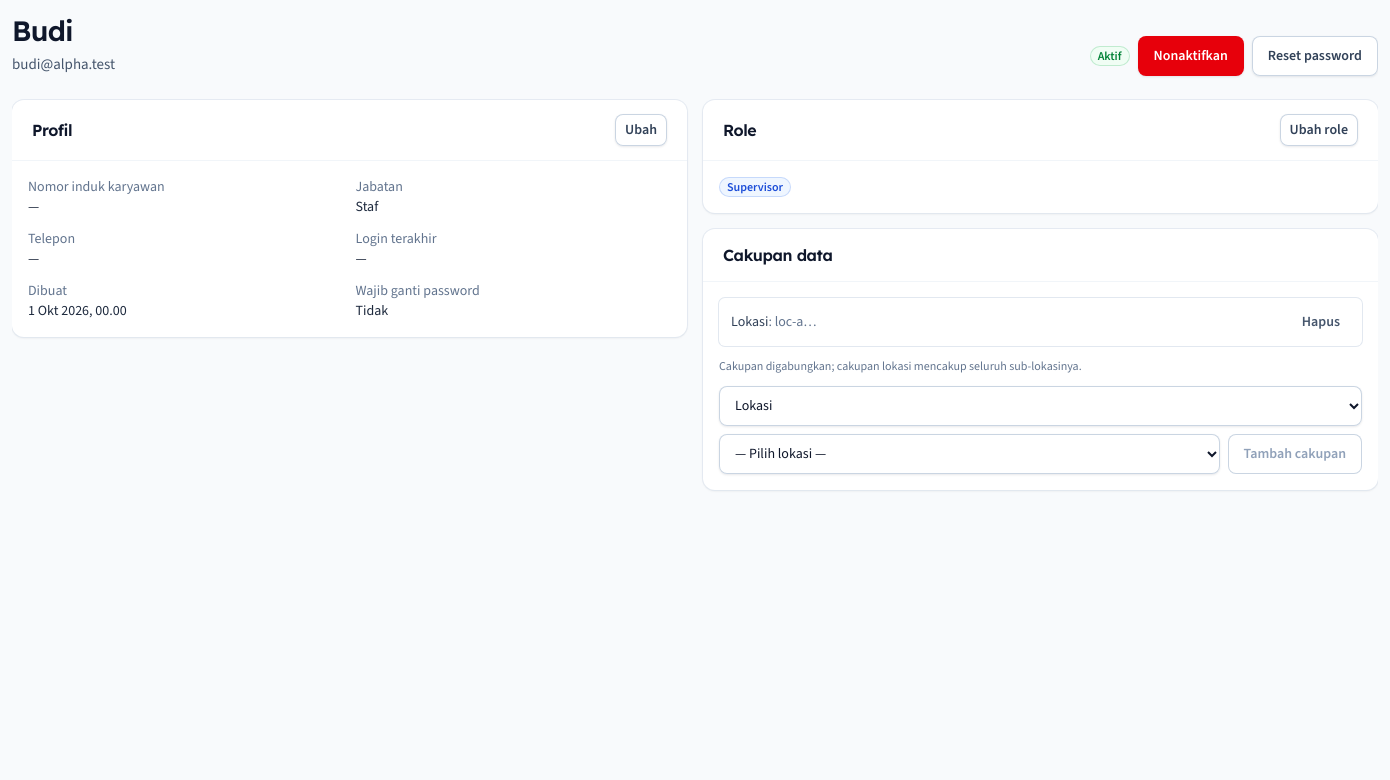
Test: UserDetailPage: rejected access changes › shows SCOPE_ESCALATION when a scope is granted and keeps the old scope
Expected: the heading "Cakupan data" is shown, [723,243,832,267]
Select "Seluruh organisasi" in the dropdown named "Jenis cakupan" at x=1040, y=406, box [719,386,1362,426]
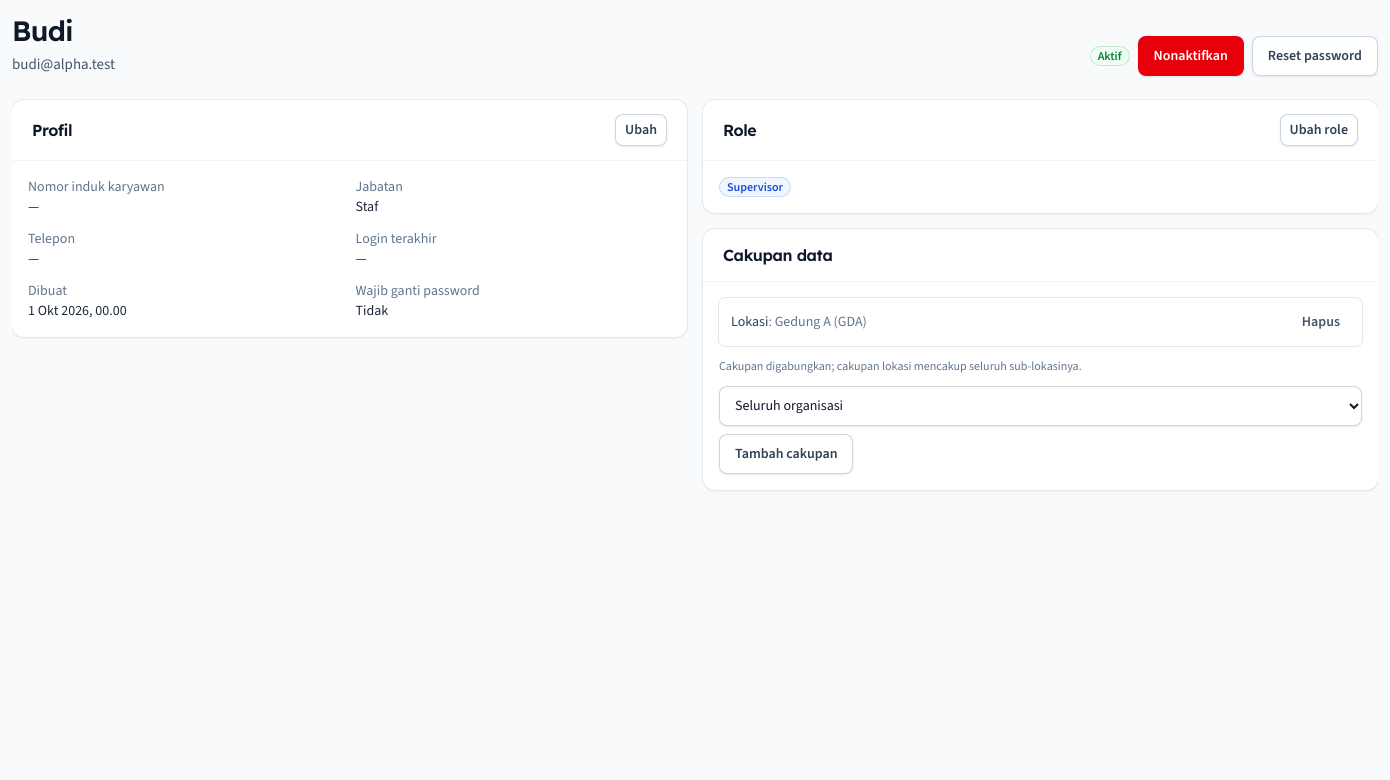
Click the button "Tambah cakupan".
click(786, 454)  # box [719,434,854,474]
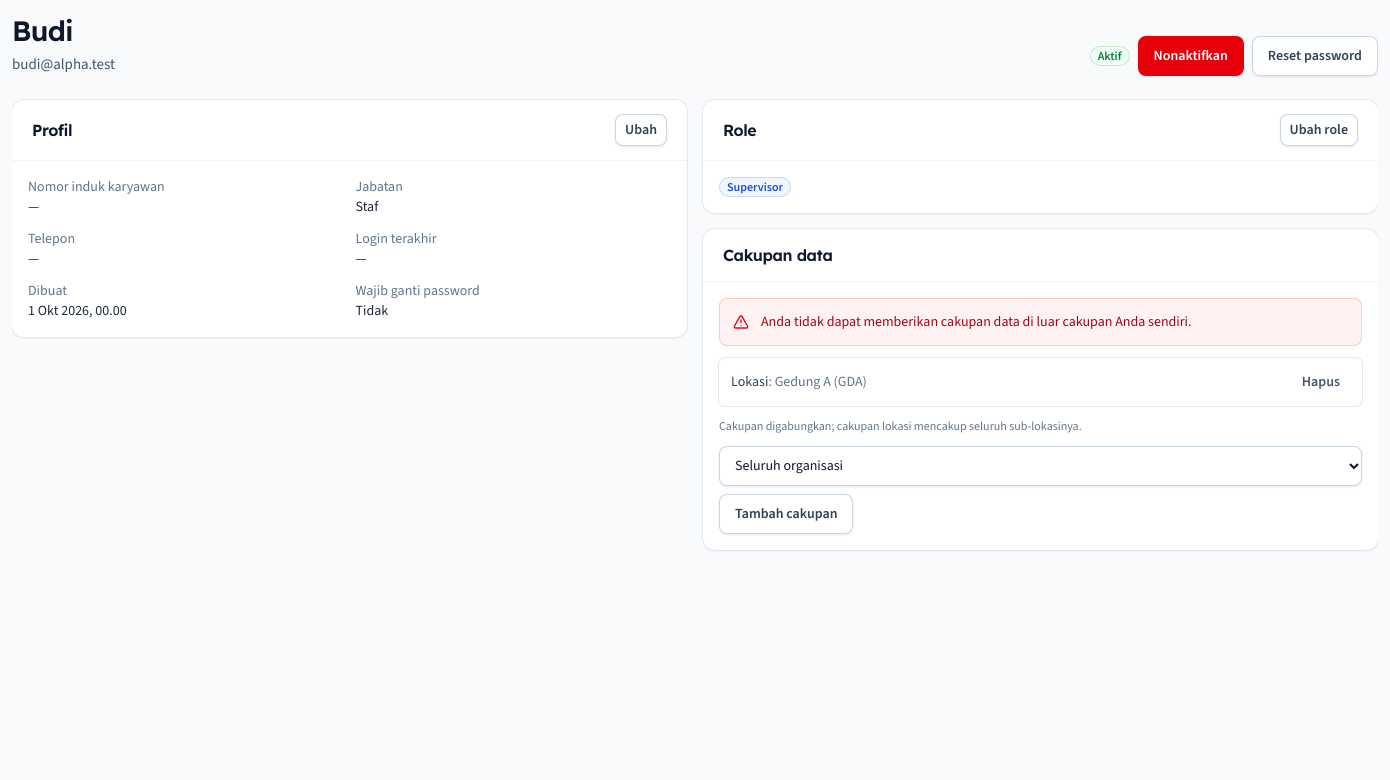
Now the message reads "Anda tidak dapat memberikan cakupan data di luar cakupan Anda sendiri.", box [761,312,1192,331]
